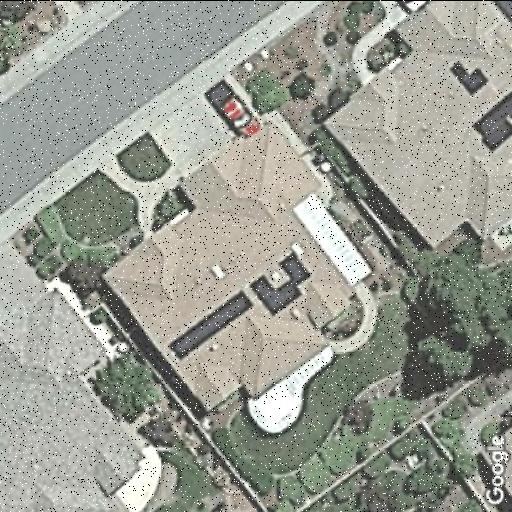solar-panel: (166, 287, 258, 362), (248, 248, 313, 318), (467, 88, 511, 154), (447, 52, 487, 106)
